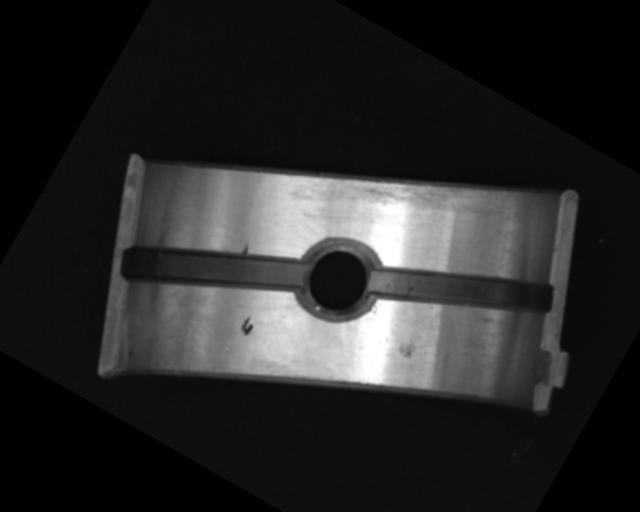blot: (237, 312, 260, 338)
bruise: (395, 335, 419, 360), (239, 241, 254, 257)
gap: (118, 186, 311, 354), (367, 206, 557, 368)
hole: (285, 224, 393, 335)
scratch: (334, 112, 526, 271)
